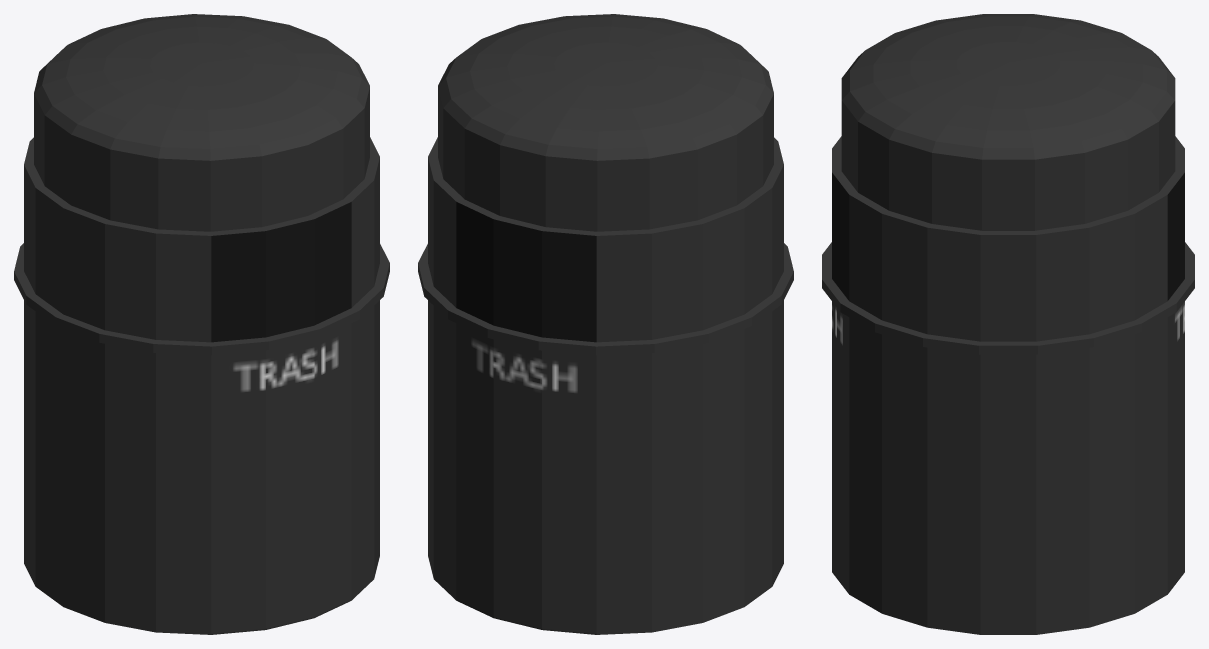
Rendered from dc_metro_trash_can.obj.
3 views of the same model, side by side, from view 1: azimuth 30°, elevation 25°; view 2: azimuth 150°, elevation 25°; view 3: azimuth 270°, elevation 25° (orthographic).
Parts seen in each view (by area): view 1: cylinder, sphere; view 2: cylinder, sphere; view 3: cylinder, sphere.
Part boxes in pixels (bbox=[...]): cylinder: bbox=[14, 87, 389, 634]; sphere: bbox=[34, 14, 369, 160]; cylinder: bbox=[418, 87, 793, 634]; sphere: bbox=[438, 14, 773, 160]; cylinder: bbox=[822, 101, 1194, 634]; sphere: bbox=[841, 14, 1175, 159].
Size of the model in its own units: 1.19 by 1.75 by 1.19.
Materials: 1 (1 with a texture image).
